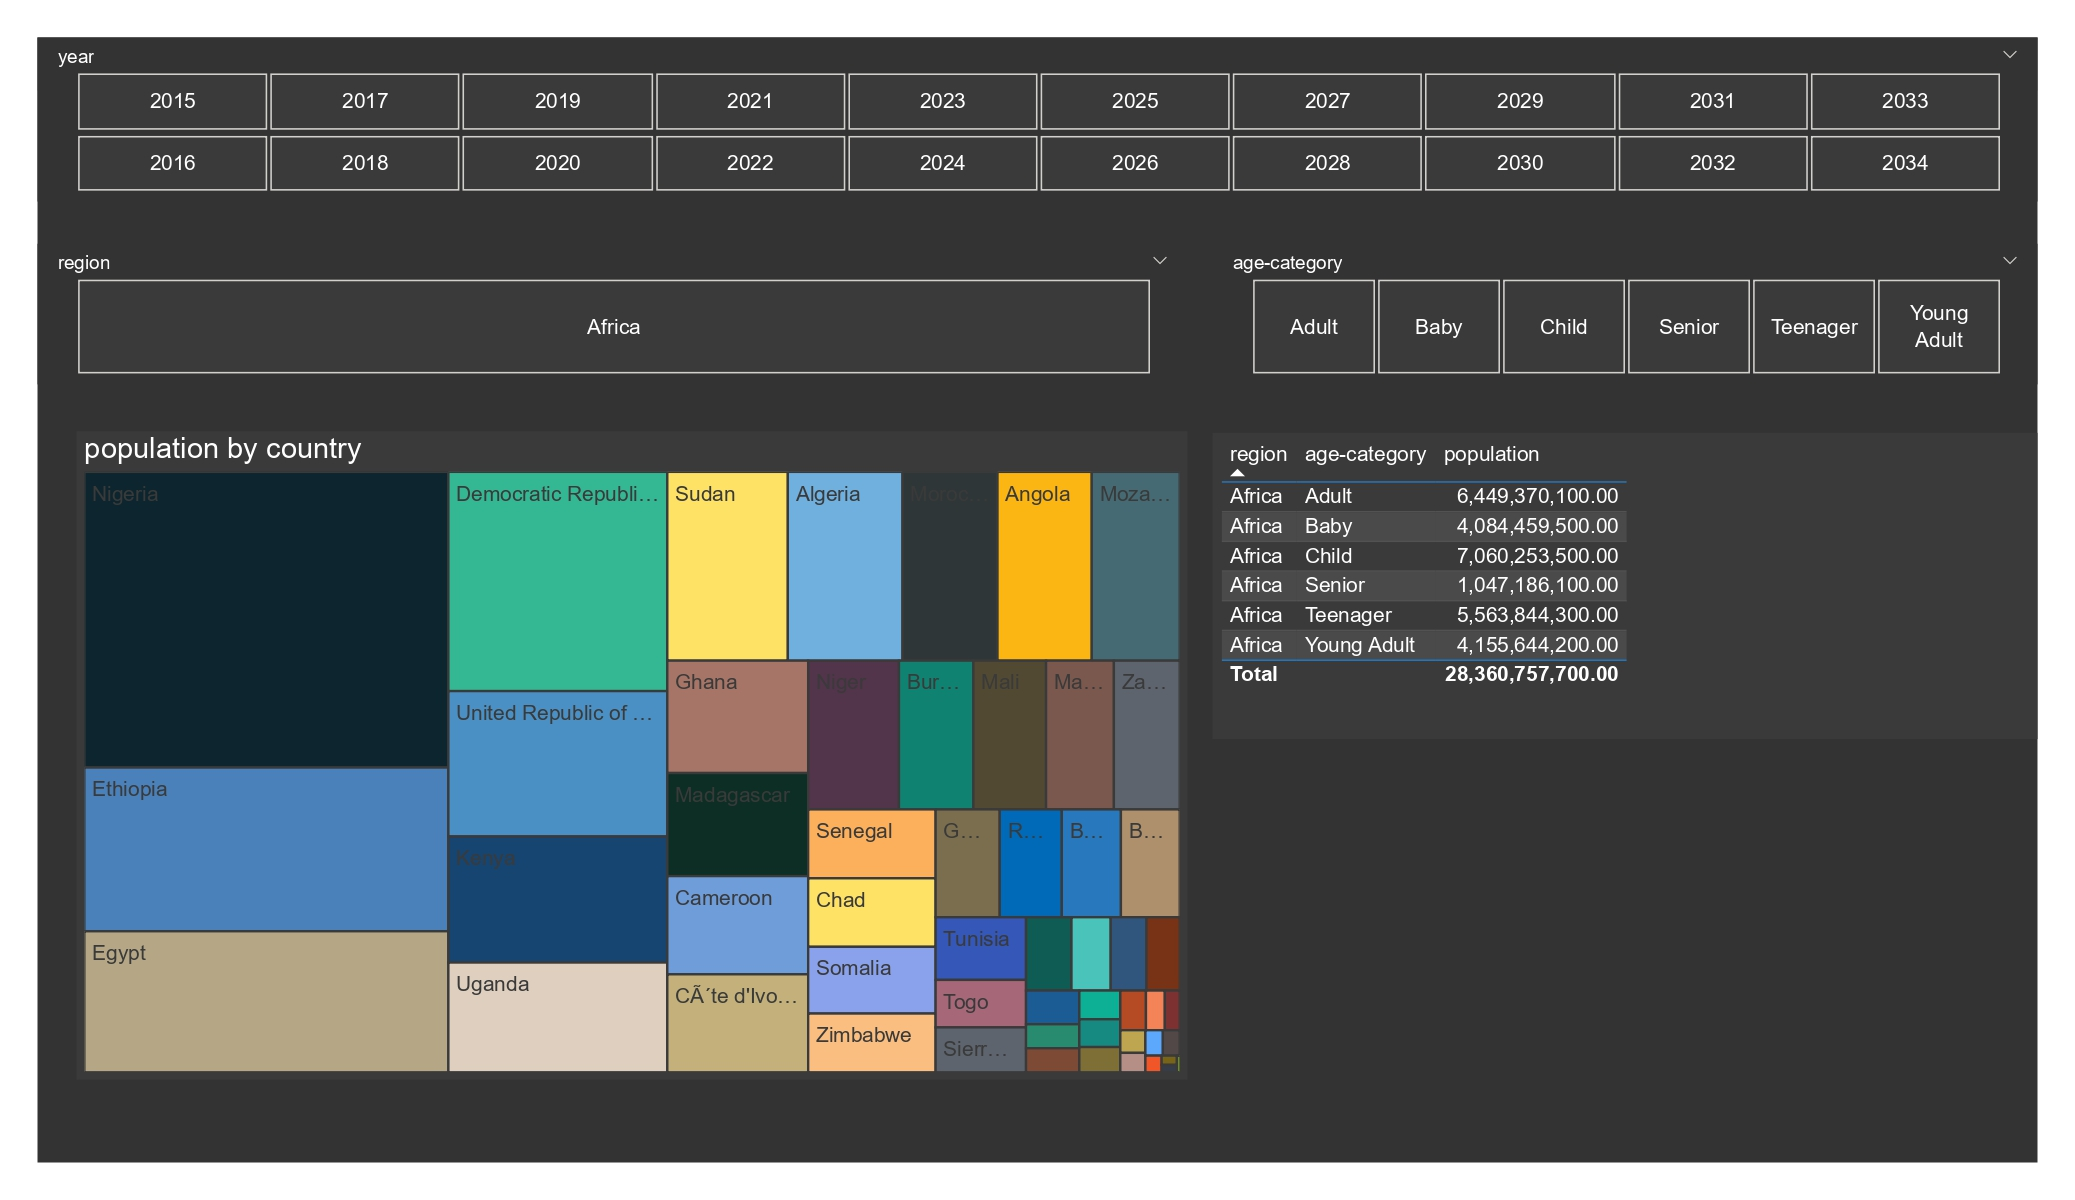

This screenshot's page, from the dashboard's own definition file:
{"tool":"powerbi","page":{"name":"Treemap & Table","canvas":[1280,720],"ordinal":3},"visuals":[{"type":"slicer","fields":{"Values":["FACT-population.year"]},"box":[0,0,1279.9,105.1],"z":0},{"type":"slicer","fields":{"Values":["DIM-region.region"]},"box":[0,131.7,735.5,90.6],"z":1000},{"type":"treemap","fields":{"Values":["Sum(FACT-population.population)"],"Details":["DIM-region.country"]},"box":[24.7,252.5,710.8,414.4],"z":2000},{"type":"slicer","fields":{"Values":["DIM-age.age-category"]},"box":[751.8,132,528.1,90.5],"z":3000},{"type":"tableEx","fields":{"Values":["DIM-region.region","DIM-age.age-category","Sum(FACT-population.population)"]},"box":[751.8,253,528.1,195.6],"z":4000}]}

Visuals, with their boxes on the page's 1280x720 design canvas (x1, y1, x2, y2). These are canvas units, not pixel positions in the 2075x1200 screenshot, which may show the page scaled, cropped or inside an application window:
slicer - FACT-population.year: 0 0 1280 105
slicer - DIM-region.region: 0 132 736 222
treemap - Sum(FACT-population.population) x DIM-region.country: 25 252 736 667
slicer - DIM-age.age-category: 752 132 1280 222
tableEx - DIM-region.region x DIM-age.age-category: 752 253 1280 449
